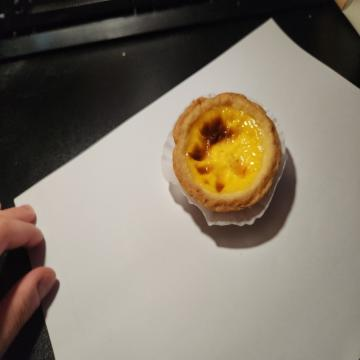EggTart: (171, 90, 281, 213)
